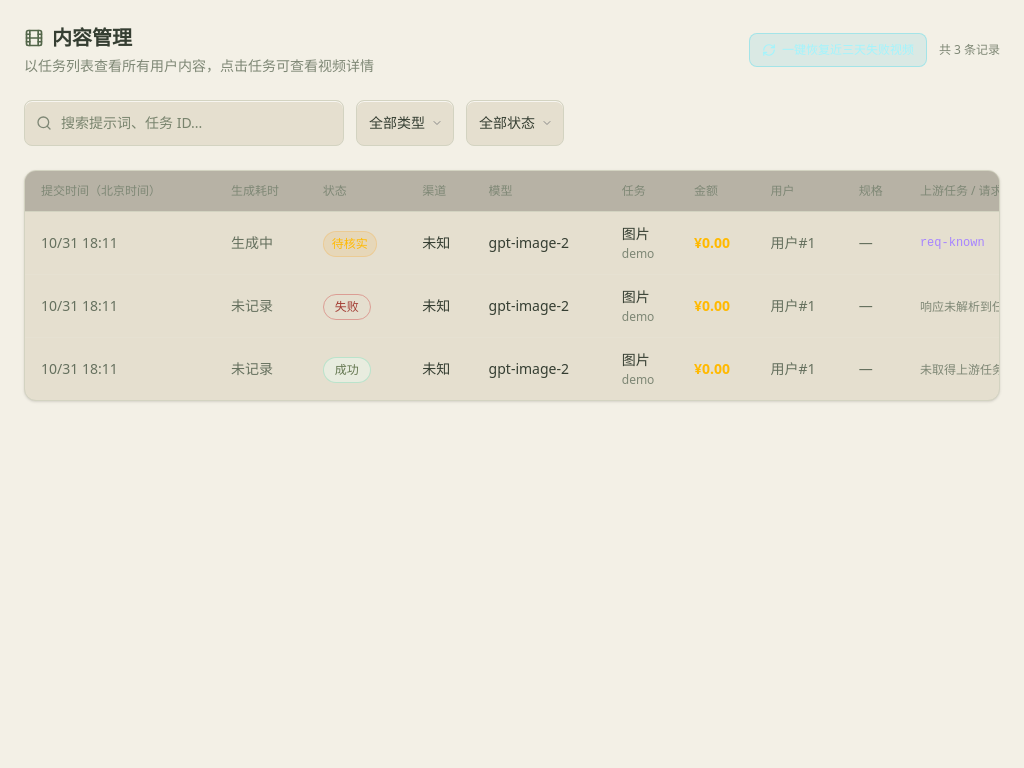
it: shows review state and distinguishes absent IDs from old records
This screenshot has width=1024, height=768.
expect the text "待核实" is shown: met, box left=323, top=230, right=377, bottom=256
expect the text "未取得上游任务 ID" is shown: met, box left=920, top=361, right=999, bottom=378
Click the button with aria-label "查看上游任务 req-known 详情". click: (952, 243)
box: left=920, top=235, right=985, bottom=251
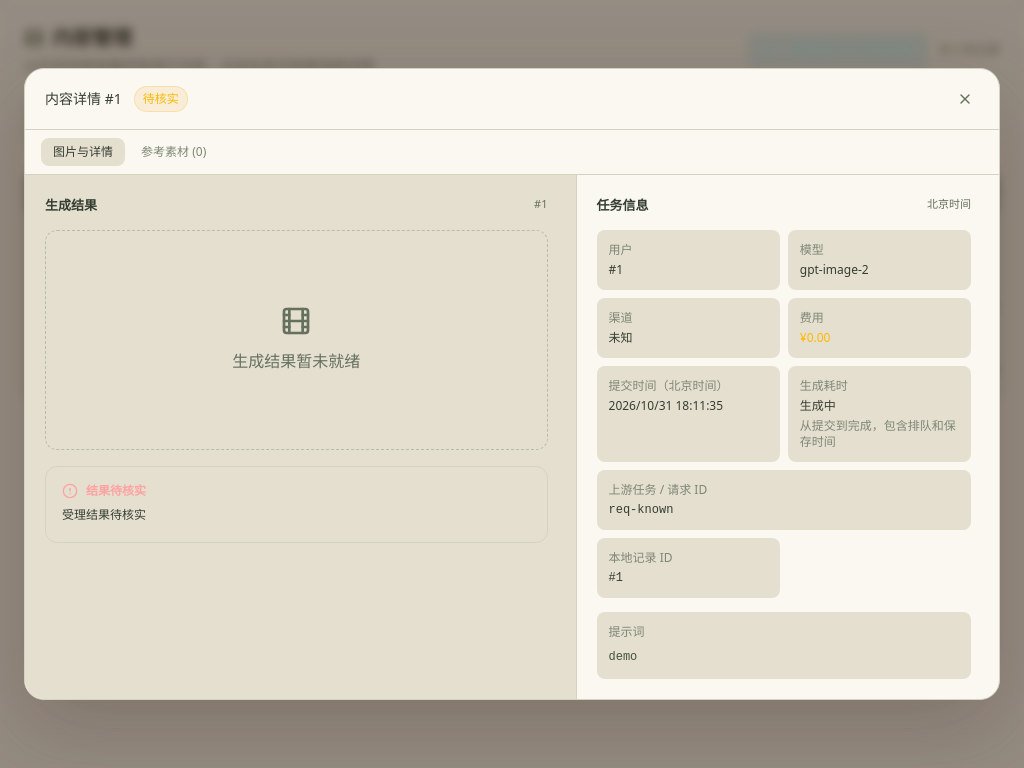
expect the text "结果待核实" is shown: met, box left=62, top=482, right=146, bottom=499
expect the text "受理结果待核实" is shown: met, box left=62, top=509, right=146, bottom=523
